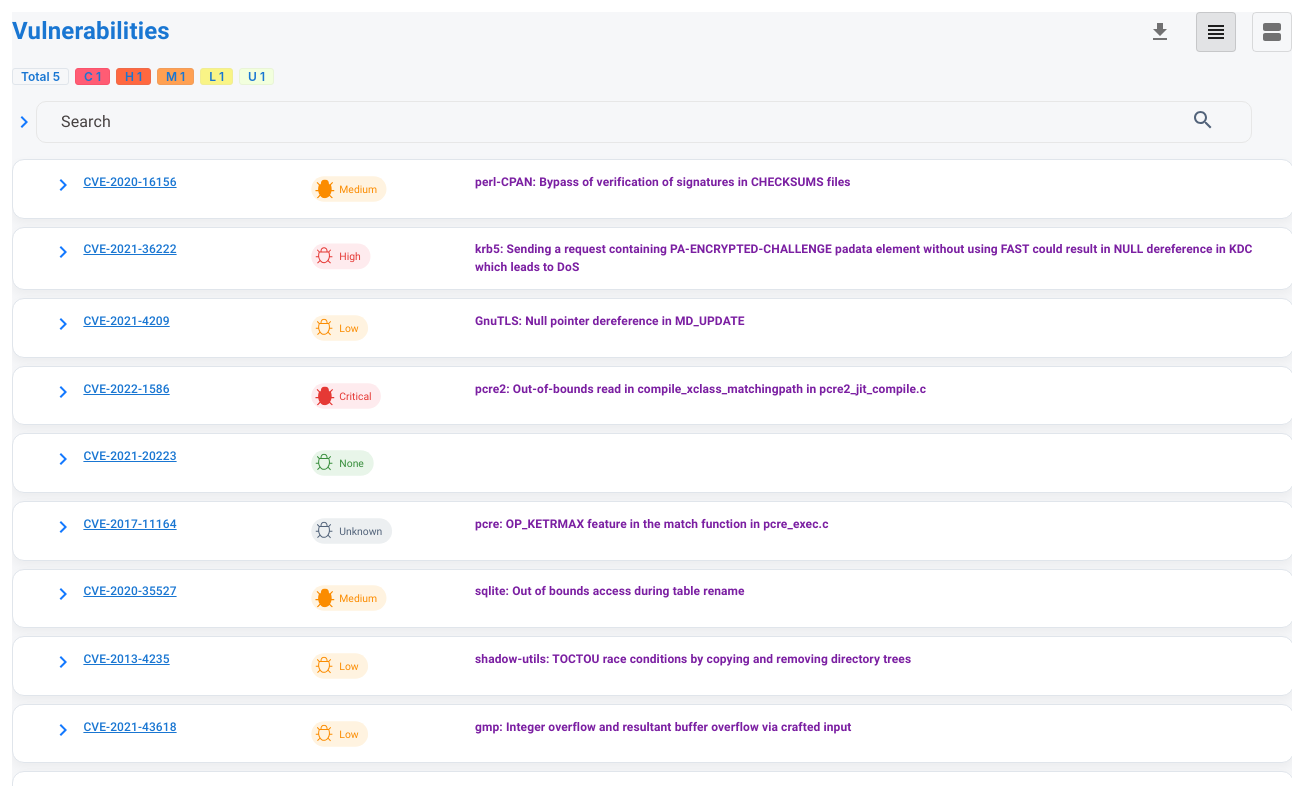
Vulnerabilties page › should find out which version fixes the CVEs
Expected: the text "Vulnerabilities" is shown once, [12,17,170,47]
Click the 2nd icon with test id "KeyboardArrowRightIcon". click: (63, 185)
box: [51,173,75,197]
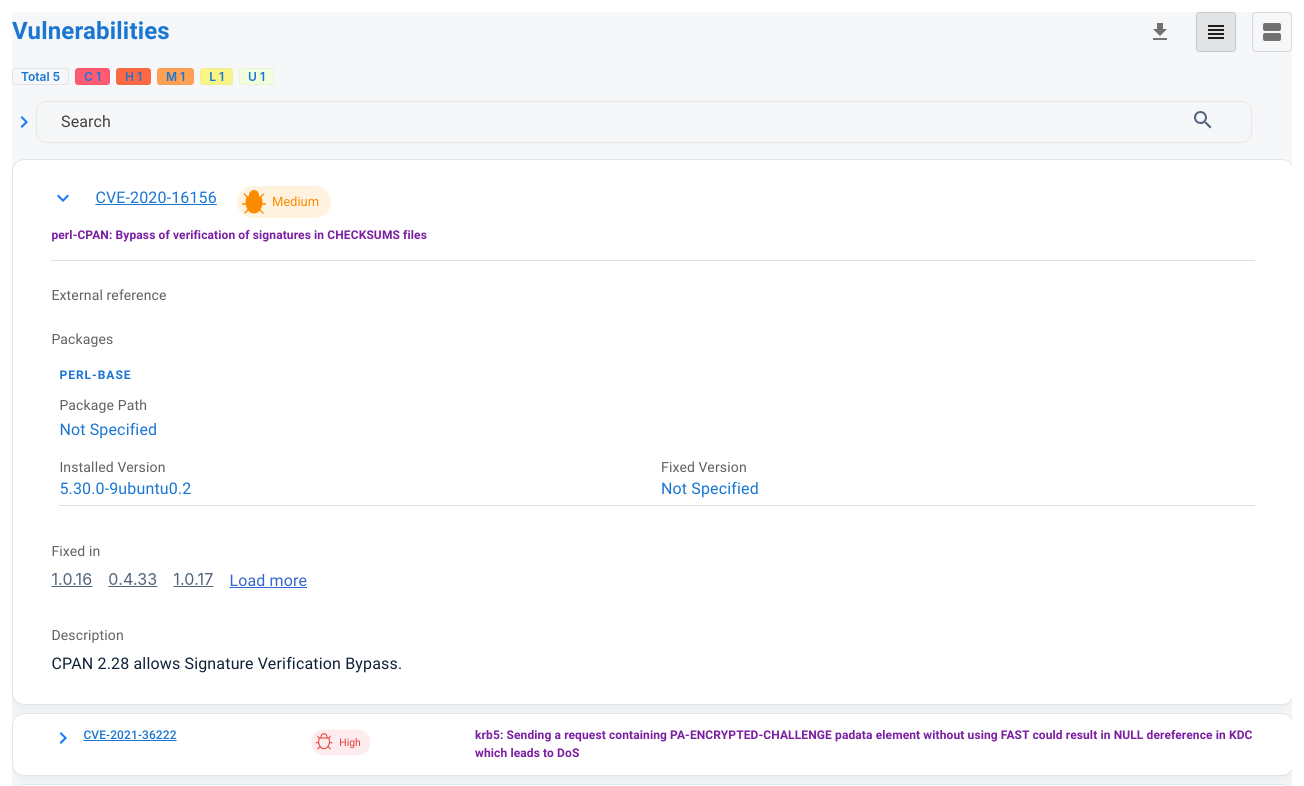
Now the link "1.0.16" is shown, box [51,569,92,589]
Now the text "Load more" is shown once
Click the text "Load more". click: (268, 580)
box: [229,571,307,590]
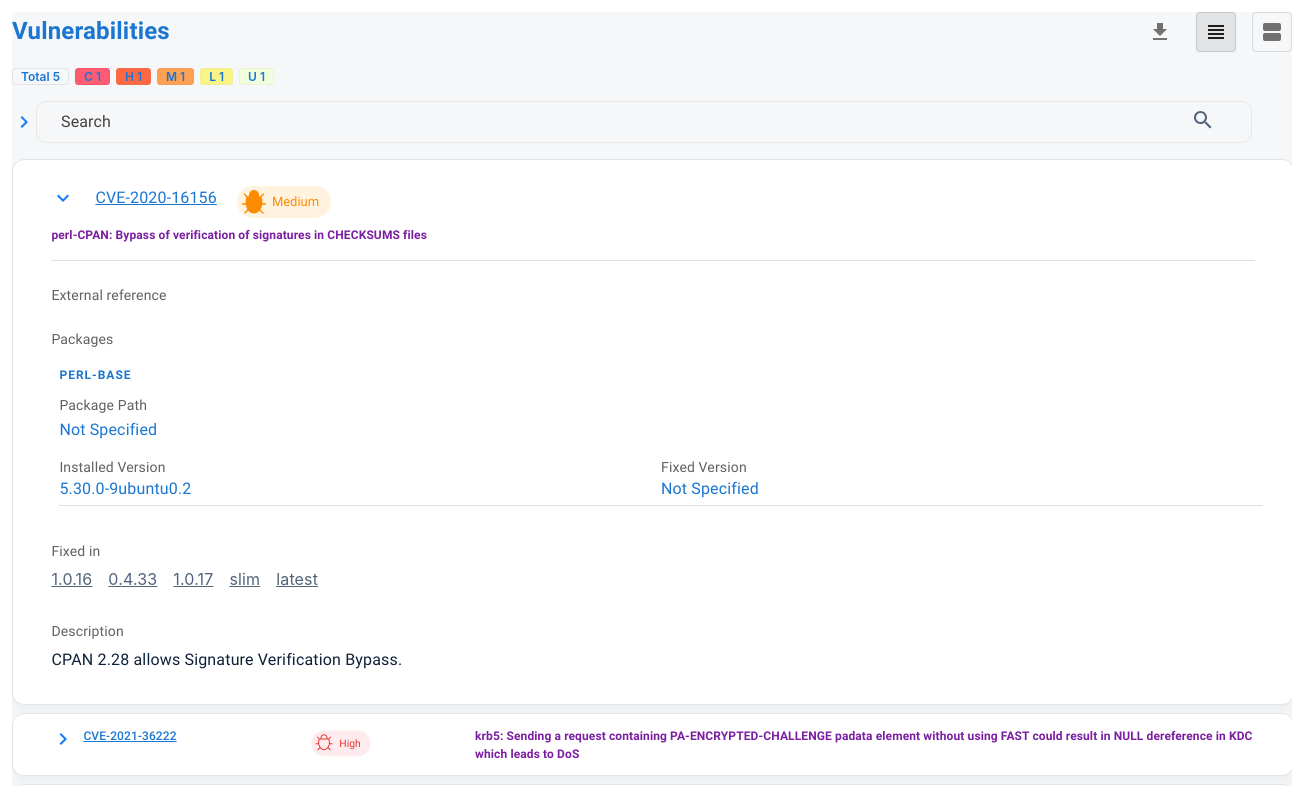
Now the text "Load more" is gone
Now the link "latest" is shown, box [276,569,318,589]
